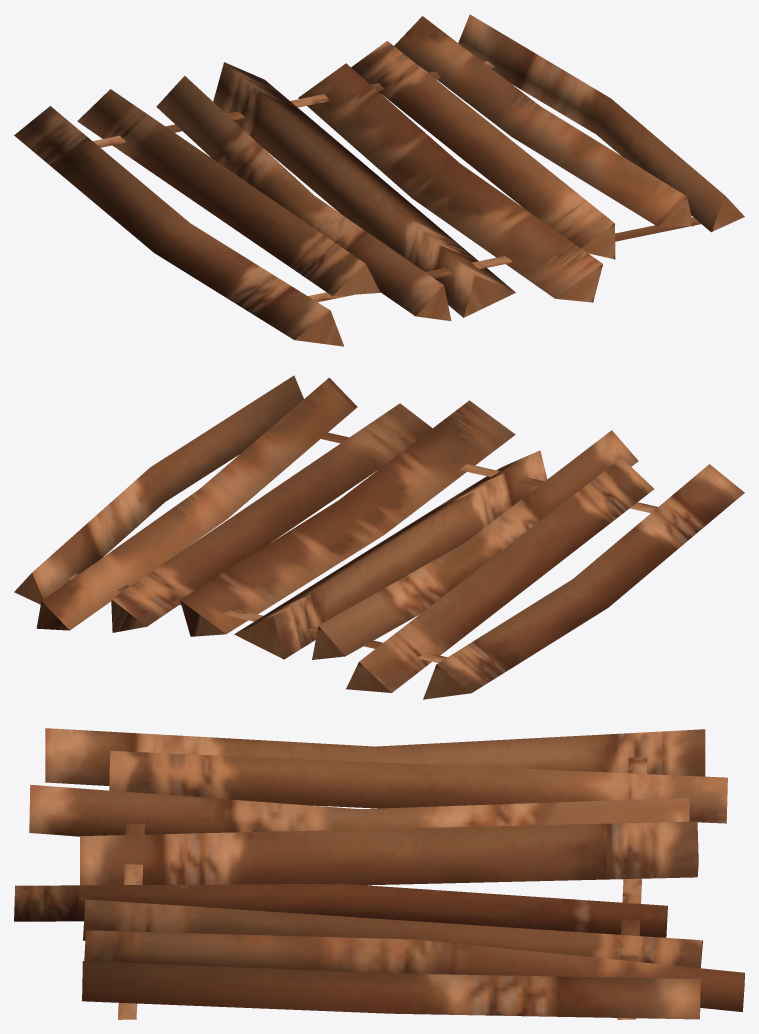
The model's file is oMscFloorwood01.FBX.
3 views of the same model, one above another, from view 1: azimuth 30°, elevation 25°; view 2: azimuth 150°, elevation 25°; view 3: azimuth 270°, elevation 25° (orthographic). The views are drawn at different scales.
Visible parts, largest first — view 1: oMscFloorwood01; view 2: oMscFloorwood01; view 3: oMscFloorwood01.
Boxes of the visible parts, x1,y1,x2,y2 form: oMscFloorwood01: (14,14,744,346); oMscFloorwood01: (14,375,744,699); oMscFloorwood01: (14,728,744,1019).
Size of the model in its own units: 14.06 by 1.85 by 15.67.
1 material, 1 textured.
